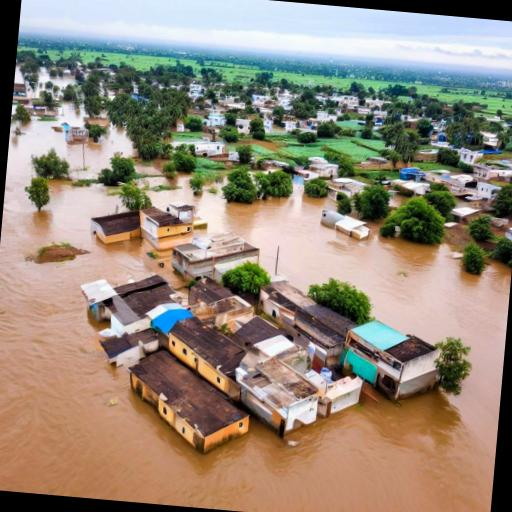flood: (0, 105, 512, 512), (26, 68, 75, 97), (135, 159, 165, 175), (14, 64, 30, 89)
house: (168, 312, 348, 443), (119, 353, 255, 455), (344, 314, 446, 408), (174, 230, 262, 284), (100, 272, 174, 330), (294, 301, 358, 361), (256, 279, 318, 327), (137, 205, 197, 245), (89, 203, 141, 245), (78, 277, 118, 325), (319, 208, 372, 242), (454, 146, 486, 170), (190, 140, 226, 160), (476, 182, 502, 202), (66, 125, 93, 143), (205, 112, 226, 130), (234, 118, 252, 136), (13, 81, 30, 97)
